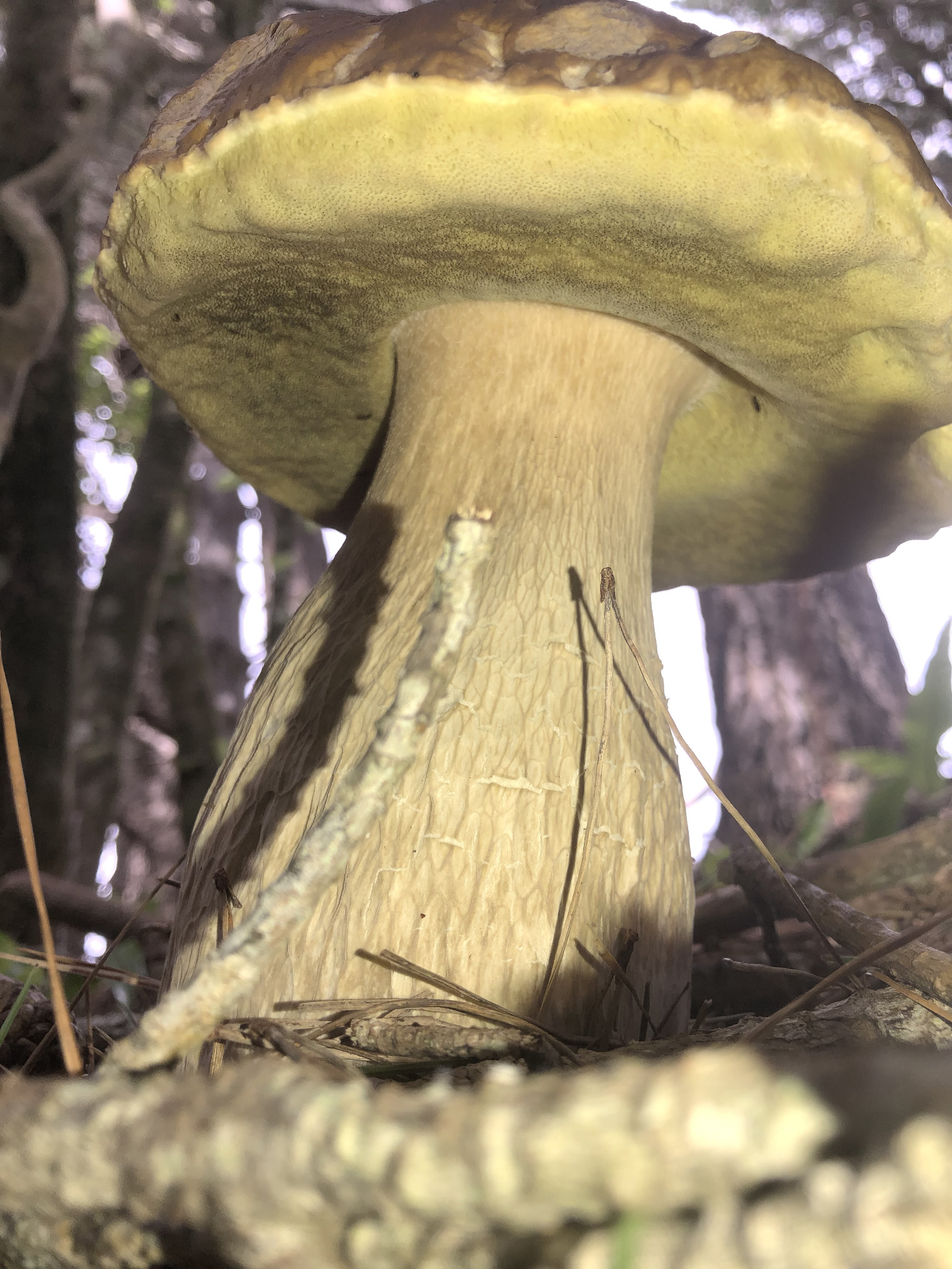stem: (171, 303, 712, 1035)
underside: (96, 76, 951, 588)
